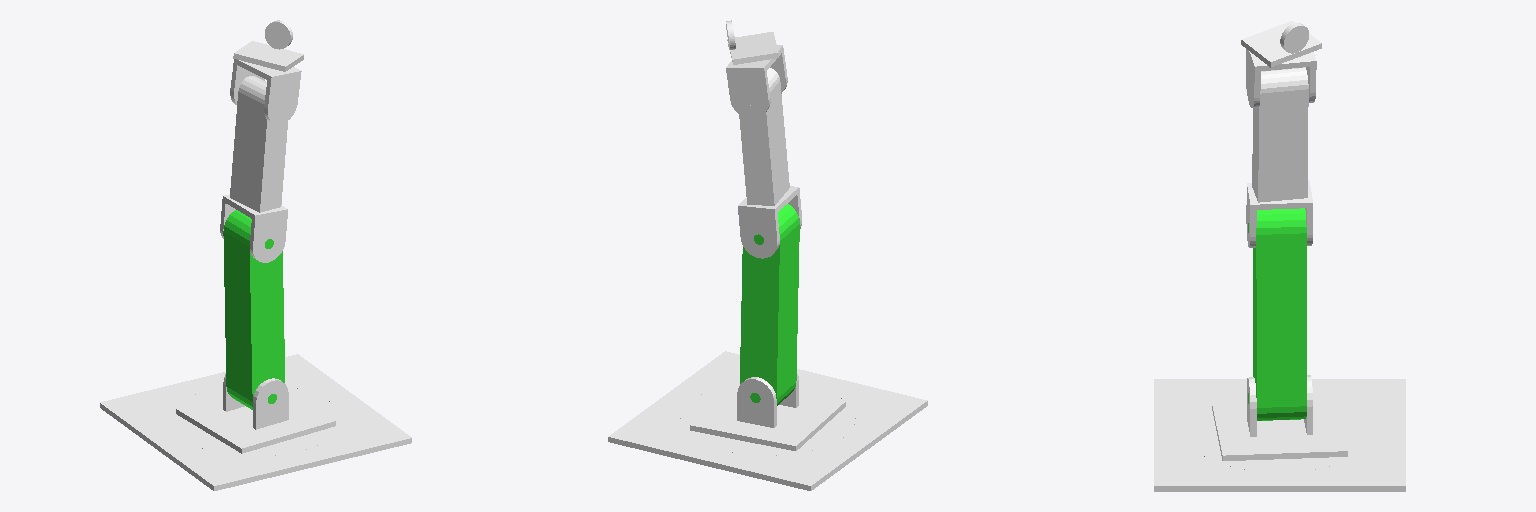
The robot description file, URDF, robot "jixiebi":
<?xml version="1.0" encoding="utf-8" ?>
<!-- This URDF was automatically created by SolidWorks to URDF Exporter! Originally created by [author] ([email redacted]) 
     Commit Version: 1.6.0-4-g7f85cfe  Build Version: 1.6.7995.38578
     For more information, please see http://wiki.ros.org/sw_urdf_exporter -->
<robot name="jixiebi">
    <link name="base_link">
        <inertial>
            <origin xyz="-1.0550161383018E-17 -5.24329292059058E-50 0" rpy="0 0 0" />
            <mass value="0.893141652942297" />
            <inertia ixx="0.0173646979782416" ixy="-5.02607215106347E-18" ixz="1.11022302462516E-20" iyy="0.0173646979782416" iyz="9.25185853854298E-21" izz="0.0347145102622675" />
        </inertial>
        <visual>
            <origin xyz="0 0 0" rpy="0 0 0" />
            <geometry>
                <mesh filename="package://jixiebi/meshes/base_link.STL" />
            </geometry>
            <material name="">
                <color rgba="1 1 1 1" />
            </material>
        </visual>
        <collision>
            <origin xyz="0 0 0" rpy="0 0 0" />
            <geometry>
                <mesh filename="package://jixiebi/meshes/base_link.STL" />
            </geometry>
        </collision>
    </link>
    <link name="link_2">
        <inertial>
            <origin xyz="-2.40878097408975E-17 -2.34682986249195E-17 0.00282819325895367" rpy="0 0 0" />
            <mass value="1.209059671757" />
            <inertia ixx="0.00584093219987658" ixy="-3.52365706057789E-19" ixz="-6.46108469543212E-19" iyy="0.00567333497454482" iyz="1.26816738042836E-19" izz="0.0108668445661779" />
        </inertial>
        <visual>
            <origin xyz="0 0 0" rpy="0 0 0" />
            <geometry>
                <mesh filename="package://jixiebi/meshes/link_2.STL" />
            </geometry>
            <material name="">
                <color rgba="1 1 1 1" />
            </material>
        </visual>
        <collision>
            <origin xyz="0 0 0" rpy="0 0 0" />
            <geometry>
                <mesh filename="package://jixiebi/meshes/link_2.STL" />
            </geometry>
        </collision>
    </link>
    <joint name="joint_1" type="continuous">
        <origin xyz="0 0 0.005" rpy="0 0 0.084899" />
        <parent link="base_link" />
        <child link="link_2" />
        <axis xyz="0 0 -1" />
        <limit effort="100" velocity="1" />
    </joint>
    <link name="link_3">
        <inertial>
            <origin xyz="0.149965205559894 0.00323065339810263 -0.05" rpy="0 0 0" />
            <mass value="2.62057961037267" />
            <inertia ixx="0.00245737778688177" ixy="-0.000578146383870905" ixz="-1.88442440997029E-19" iyy="0.0292821693677553" iyz="-6.58168599789274E-19" izz="0.0288948764003918" />
        </inertial>
        <visual>
            <origin xyz="0 0 0" rpy="0 0 0" />
            <geometry>
                <mesh filename="package://jixiebi/meshes/link_3.STL" />
            </geometry>
            <material name="">
                <color rgba="0.27843137254902 1 0.294117647058824 1" />
            </material>
        </visual>
        <collision>
            <origin xyz="0 0 0" rpy="0 0 0" />
            <geometry>
                <mesh filename="package://jixiebi/meshes/link_3.STL" />
            </geometry>
        </collision>
    </link>
    <joint name="joint_2" type="revolute">
        <origin xyz="0 -0.05 0.06" rpy="1.5708 -1.5708 0" />
        <parent link="link_2" />
        <child link="link_3" />
        <axis xyz="0 0 -1" />
        <limit lower="-1.57" upper="1.57" effort="100" velocity="1" />
    </joint>
    <link name="link_4">
        <inertial>
            <origin xyz="0.0280959500092446 6.93889390390723E-18 -0.05" rpy="0 0 0" />
            <mass value="0.165132741228719" />
            <inertia ixx="0.000184292615563898" ixy="-8.470329472543E-21" ixz="5.51662972608895E-05" iyy="0.000226086906125154" iyz="4.5824558797898E-20" izz="0.000178590011367756" />
        </inertial>
        <visual>
            <origin xyz="0 0 0" rpy="0 0 0" />
            <geometry>
                <mesh filename="package://jixiebi/meshes/link_4.STL" />
            </geometry>
            <material name="">
                <color rgba="1 1 1 1" />
            </material>
        </visual>
        <collision>
            <origin xyz="0 0 0" rpy="0 0 0" />
            <geometry>
                <mesh filename="package://jixiebi/meshes/link_4.STL" />
            </geometry>
        </collision>
    </link>
    <joint name="joint_3" type="revolute">
        <origin xyz="0.29993 0.0064613 0" rpy="0 0 -0.090835" />
        <parent link="link_3" />
        <child link="link_4" />
        <axis xyz="0 0 1" />
        <limit lower="-2" upper="2" effort="100" velocity="1" />
    </joint>
    <link name="link_5">
        <inertial>
            <origin xyz="0.119612639447075 2.08166817117217E-17 -5.20417042793042E-18" rpy="0 0 0" />
            <mass value="0.891891585117502" />
            <inertia ixx="0.000661221187082" ixy="-1.35525271560688E-19" ixz="9.74087889342445E-21" iyy="0.00417129698713738" iyz="-2.12181753287202E-19" izz="0.00386906220090069" />
        </inertial>
        <visual>
            <origin xyz="0 0 0" rpy="0 0 0" />
            <geometry>
                <mesh filename="package://jixiebi/meshes/link_5.STL" />
            </geometry>
            <material name="">
                <color rgba="1 1 1 1" />
            </material>
        </visual>
        <collision>
            <origin xyz="0 0 0" rpy="0 0 0" />
            <geometry>
                <mesh filename="package://jixiebi/meshes/link_5.STL" />
            </geometry>
        </collision>
    </link>
    <joint name="joint_4" type="continuous">
        <origin xyz="0.05 0 -0.05" rpy="-3.0342 0 0" />
        <parent link="link_4" />
        <child link="link_5" />
        <axis xyz="-1 0 0" />
        <limit effort="100" velocity="1" />
    </joint>
    <link name="link_6">
        <inertial>
            <origin xyz="0.0280959500092448 0.05 4.16333634234434E-17" rpy="0 0 0" />
            <mass value="0.165132741228719" />
            <inertia ixx="0.000184292615563898" ixy="5.51662972608895E-05" ixz="-4.57397791517322E-20" iyy="0.000178590011367756" iyz="1.42380944477528E-19" izz="0.000226086906125154" />
        </inertial>
        <visual>
            <origin xyz="0 0 0" rpy="0 0 0" />
            <geometry>
                <mesh filename="package://jixiebi/meshes/link_6.STL" />
            </geometry>
            <material name="">
                <color rgba="1 1 1 1" />
            </material>
        </visual>
        <collision>
            <origin xyz="0 0 0" rpy="0 0 0" />
            <geometry>
                <mesh filename="package://jixiebi/meshes/link_6.STL" />
            </geometry>
        </collision>
    </link>
    <joint name="joint_5" type="revolute">
        <origin xyz="0.21 0 -0.05" rpy="1.5708 0 0.049164" />
        <parent link="link_5" />
        <child link="link_6" />
        <axis xyz="0 1 0" />
        <limit lower="-2" upper="2" effort="100" velocity="1" />
    </joint>
    <link name="link_7">
        <inertial>
            <origin xyz="0.0198579719071885 1.38777878078145E-17 -0.00644049305877257" rpy="0 0 0" />
            <mass value="0.106703537555513" />
            <inertia ixx="0.000113360135166919" ixy="4.02340649945793E-21" ixz="-1.01643953670516E-20" iyy="4.76709049063445E-05" iyz="1.54848210669927E-20" izz="7.45752418647414E-05" />
        </inertial>
        <visual>
            <origin xyz="0 0 0" rpy="0 0 0" />
            <geometry>
                <mesh filename="package://jixiebi/meshes/link_7.STL" />
            </geometry>
            <material name="">
                <color rgba="1 1 1 1" />
            </material>
        </visual>
        <collision>
            <origin xyz="0 0 0" rpy="0 0 0" />
            <geometry>
                <mesh filename="package://jixiebi/meshes/link_7.STL" />
            </geometry>
        </collision>
    </link>
    <joint name="joint_6" type="continuous">
        <origin xyz="0.06 0.05 0" rpy="0.42772 0 0" />
        <parent link="link_6" />
        <child link="link_7" />
        <axis xyz="-1 0 0" />
        <limit effort="100" velocity="1" />
    </joint>
    <transmission name="trans_joint_1">
        <type>transmission_interface/SimpleTransmission</type>
        <joint name="joint_1">
            <hardwareInterface>hardware_interface/EffortJointInterface</hardwareInterface>
        </joint>
        <actuator name="joint_1_motor">
            <hardwareInterface>hardware_interface/EffortJointInterface</hardwareInterface>
            <mechanicalReduction>1</mechanicalReduction>
        </actuator>
    </transmission>
    <transmission name="trans_joint_2">
        <type>transmission_interface/SimpleTransmission</type>
        <joint name="joint_2">
            <hardwareInterface>hardware_interface/EffortJointInterface</hardwareInterface>
        </joint>
        <actuator name="joint_2_motor">
            <hardwareInterface>hardware_interface/EffortJointInterface</hardwareInterface>
            <mechanicalReduction>1</mechanicalReduction>
        </actuator>
    </transmission>
    <transmission name="trans_joint_3">
        <type>transmission_interface/SimpleTransmission</type>
        <joint name="joint_3">
            <hardwareInterface>hardware_interface/EffortJointInterface</hardwareInterface>
        </joint>
        <actuator name="joint_3_motor">
            <hardwareInterface>hardware_interface/EffortJointInterface</hardwareInterface>
            <mechanicalReduction>1</mechanicalReduction>
        </actuator>
    </transmission>
    <transmission name="trans_joint_4">
        <type>transmission_interface/SimpleTransmission</type>
        <joint name="joint_4">
            <hardwareInterface>hardware_interface/EffortJointInterface</hardwareInterface>
        </joint>
        <actuator name="joint_4_motor">
            <hardwareInterface>hardware_interface/EffortJointInterface</hardwareInterface>
            <mechanicalReduction>1</mechanicalReduction>
        </actuator>
    </transmission>
    <transmission name="trans_joint_5">
        <type>transmission_interface/SimpleTransmission</type>
        <joint name="joint_5">
            <hardwareInterface>hardware_interface/EffortJointInterface</hardwareInterface>
        </joint>
        <actuator name="joint_5_motor">
            <hardwareInterface>hardware_interface/EffortJointInterface</hardwareInterface>
            <mechanicalReduction>1</mechanicalReduction>
        </actuator>
    </transmission>
    <transmission name="trans_joint_6">
        <type>transmission_interface/SimpleTransmission</type>
        <joint name="joint_6">
            <hardwareInterface>hardware_interface/EffortJointInterface</hardwareInterface>
        </joint>
        <actuator name="joint_6_motor">
            <hardwareInterface>hardware_interface/EffortJointInterface</hardwareInterface>
            <mechanicalReduction>1</mechanicalReduction>
        </actuator>
    </transmission>
    <gazebo>
        <plugin name="gazebo_ros_control">
            <robotNamespace>/</robotNamespace>
        </plugin>
    </gazebo>
</robot>

--- What the picture shows (computed from the rendered views, not written in the file) ---
The picture shows the robot from 3 angles, left to right: view 1: azimuth 30°, elevation 25°; view 2: azimuth 150°, elevation 25°; view 3: azimuth 270°, elevation 25°; orthographic projection.
Model jixiebi with 7 links and 6 joints (3 revolute, 3 continuous), rooted at base_link, posed every joint at zero.
Visible links, largest first — view 1: base_link, link_2, link_3, link_5, link_6, link_4, link_7; view 2: base_link, link_2, link_3, link_5, link_6, link_4, link_7; view 3: base_link, link_3, link_2, link_5, link_7, link_6, link_4.
Boxes of the visible links, left/top/right/bottom form: base_link: left=100, top=354, right=411, bottom=490; link_2: left=170, top=374, right=341, bottom=455; link_3: left=223, top=210, right=284, bottom=409; link_5: left=230, top=76, right=287, bottom=212; link_6: left=230, top=59, right=301, bottom=124; link_4: left=220, top=194, right=287, bottom=262; link_7: left=233, top=20, right=303, bottom=71; base_link: left=608, top=351, right=927, bottom=490; link_2: left=680, top=372, right=855, bottom=455; link_3: left=740, top=204, right=799, bottom=405; link_5: left=739, top=68, right=789, bottom=205; link_6: left=726, top=45, right=787, bottom=118; link_4: left=738, top=186, right=801, bottom=258; link_7: left=726, top=20, right=778, bottom=64; base_link: left=1154, top=379, right=1405, bottom=491; link_3: left=1248, top=208, right=1306, bottom=420; link_2: left=1186, top=375, right=1373, bottom=471; link_5: left=1249, top=67, right=1308, bottom=202; link_7: left=1241, top=21, right=1321, bottom=67; link_6: left=1246, top=49, right=1316, bottom=107; link_4: left=1246, top=180, right=1312, bottom=247.
Size in the robot's own frame: 0.4 by 0.4 by 0.7539 metres.
Meshes: 7 distinct files referenced, 7 mesh visuals loaded (7 binary STL).
